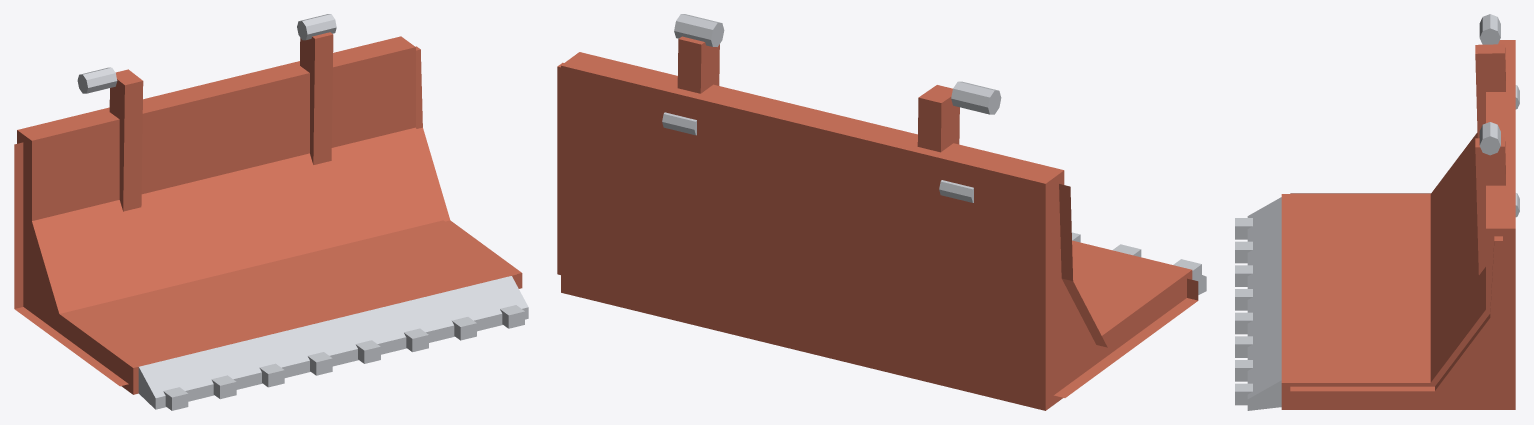
The model's file is arable-fields-and-farm-machinery-loader-bucket-0961cd0a__16867.glb.
The picture shows the model from 3 angles, left to right: view 1: azimuth 30°, elevation 25°; view 2: azimuth 150°, elevation 25°; view 3: azimuth 270°, elevation 25°; orthographic projection. The views are drawn at different scales.
Visible parts, largest first — view 1: loader-bucket; view 2: loader-bucket; view 3: loader-bucket.
Boxes of the visible parts, box(x1,y1,x2,y2) form: loader-bucket: box(14, 14, 528, 410); loader-bucket: box(557, 14, 1206, 410); loader-bucket: box(1235, 14, 1519, 410).
Size of the model in its own units: 2.2 by 1.23 by 1.34.
